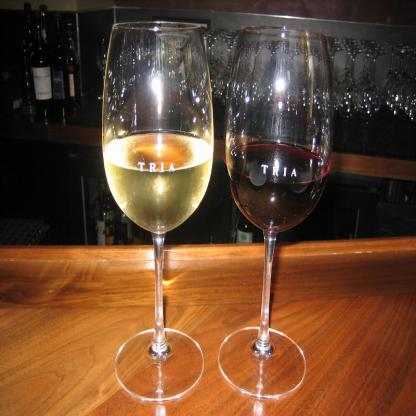drinking: (218, 26, 334, 399), (102, 21, 214, 403)
